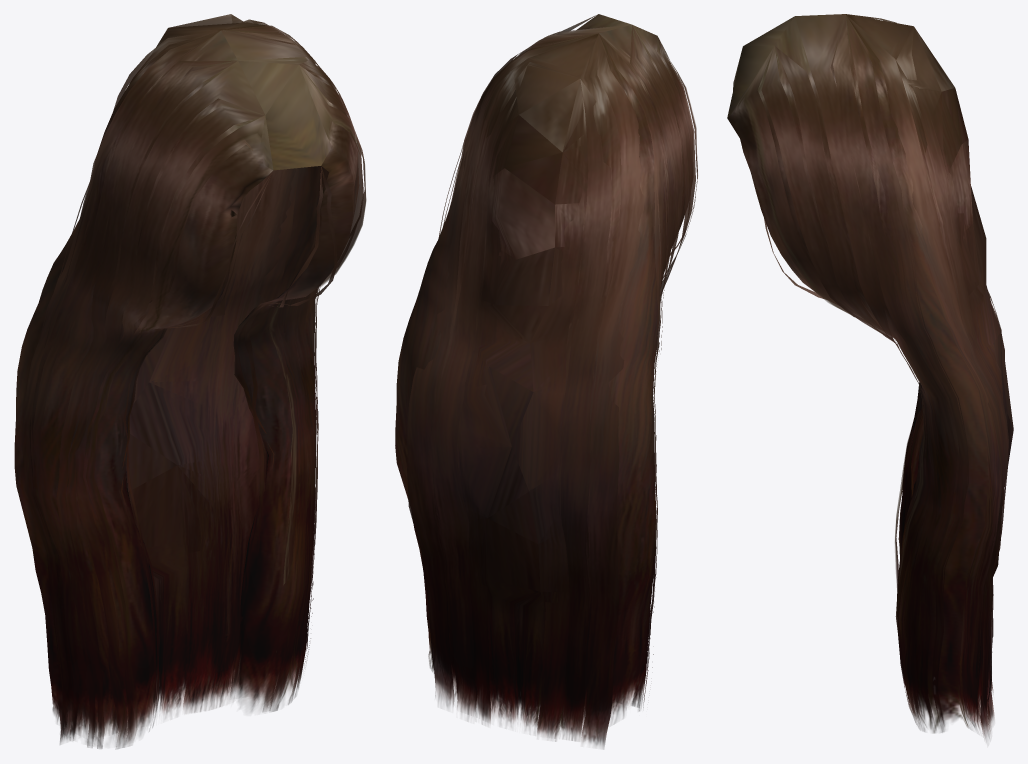
Rendered from long.glb.
3 views of the same model, side by side, from view 1: azimuth 30°, elevation 25°; view 2: azimuth 150°, elevation 25°; view 3: azimuth 270°, elevation 25° (orthographic). The views are drawn at different scales.
Parts seen in each view (by area): view 1: hair_long; view 2: hair_long; view 3: hair_long.
Boxes of the visible parts, x1=… form: hair_long: x1=14, y1=14, x2=366, y2=748; hair_long: x1=395, y1=14, x2=697, y2=748; hair_long: x1=727, y1=14, x2=1013, y2=741.
Bounding box in the file's own units: 0.3168 × 0.7801 × 0.293.
Materials: 1 (1 with a texture image).
